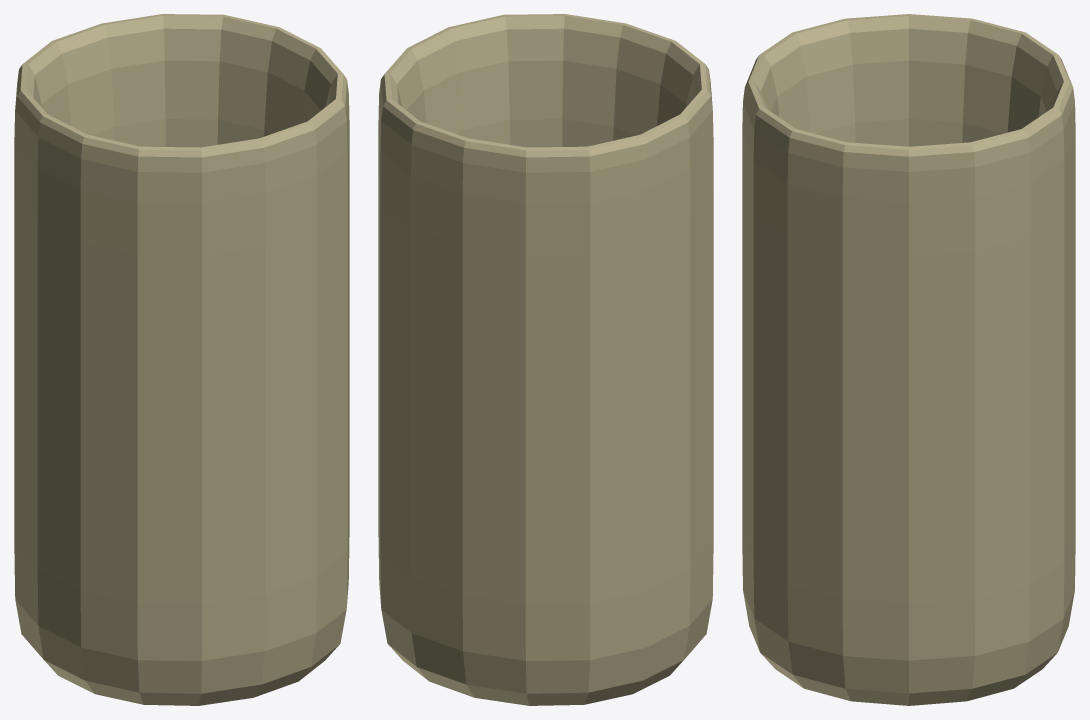
File: Gelas.fbx
3 views of the same model, side by side, from view 1: azimuth 30°, elevation 25°; view 2: azimuth 150°, elevation 25°; view 3: azimuth 270°, elevation 25° (orthographic).
Visible parts, largest first — view 1: Cube.002; view 2: Cube.002; view 3: Cube.002.
Boxes of the visible parts, bbox=[...] form: Cube.002: bbox=[14, 14, 349, 705]; Cube.002: bbox=[378, 14, 713, 705]; Cube.002: bbox=[742, 14, 1075, 705].
Bounding box in the file's own units: 66.16 × 127 × 66.16.
